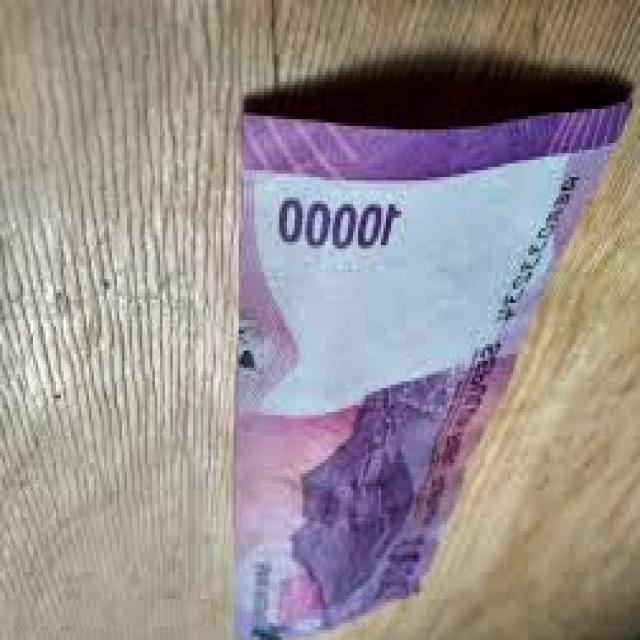sepuluh ribu rupiah: (234, 92, 636, 640)
